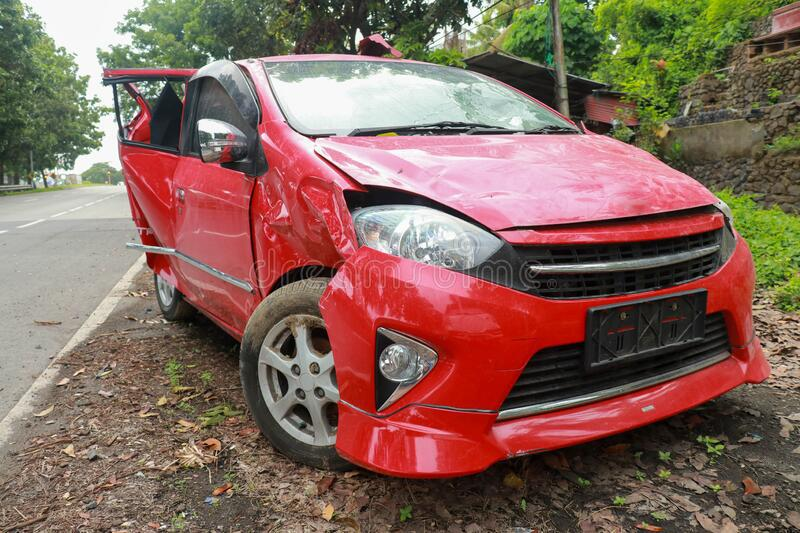bonnet-dent: (351, 129, 736, 229)
doorouter-dent: (102, 67, 190, 269)
fender-dent: (245, 137, 350, 298)
front-bumper-dent: (314, 250, 724, 464)
